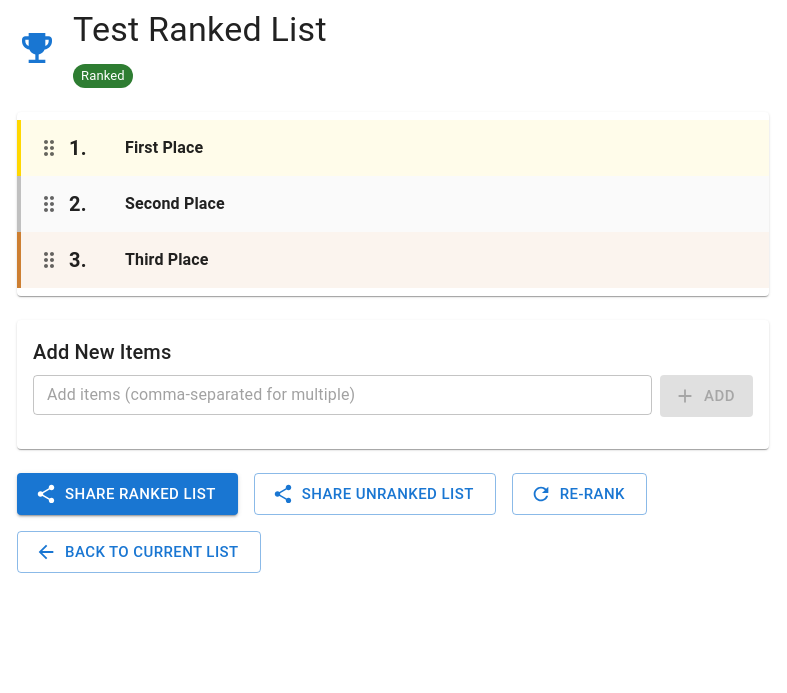
Scenario: RankedResultView › Unranked Items Display › shows insert button when unranked items exist
Type "New Item" into the field with placeholder "Add items (comma-separated for multiple)" at [343, 395], box [33,375,652,415]
Then press Enter
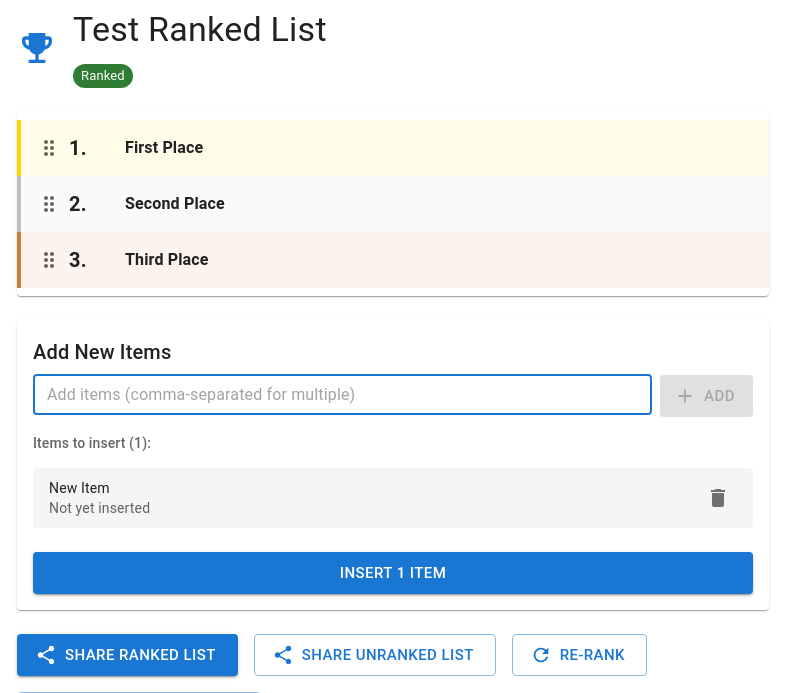
Check: the button "Insert 1 Item" is shown, box [33,552,753,594]
